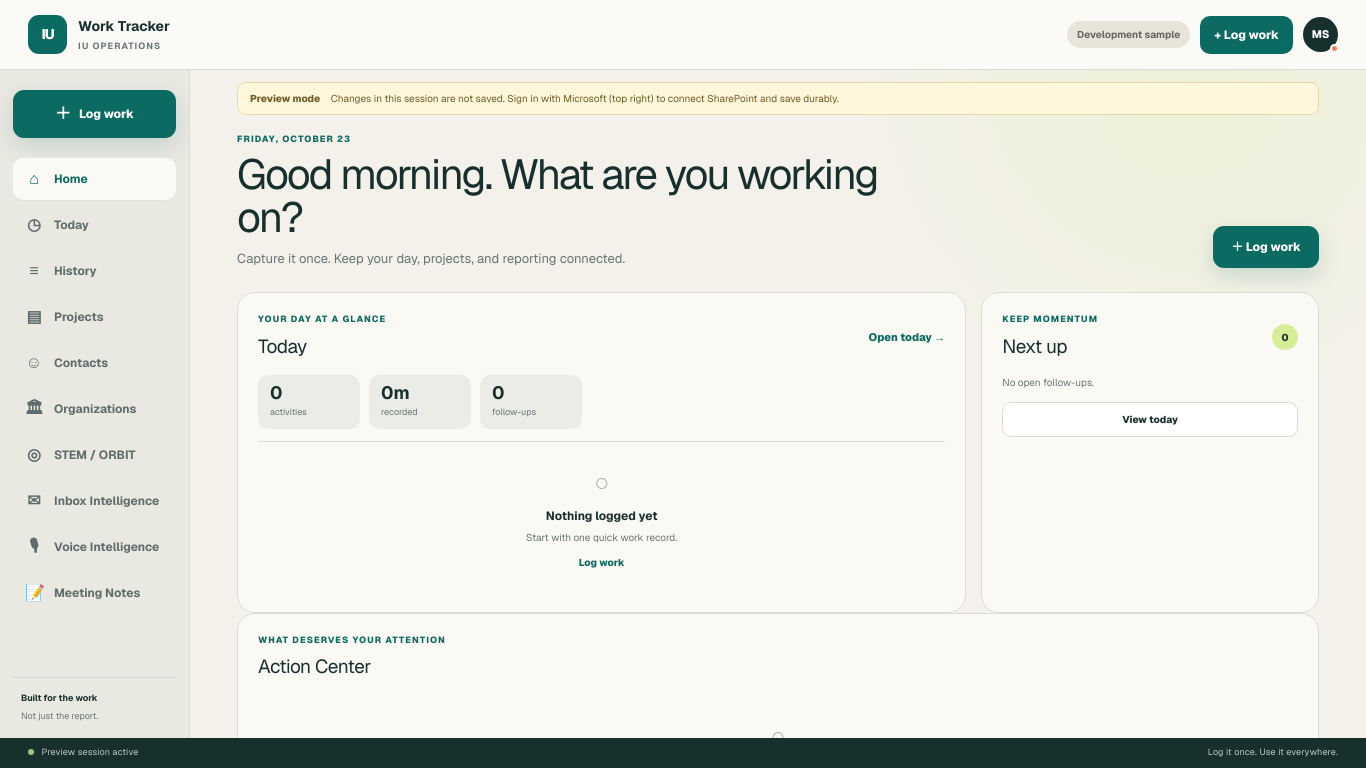
Test: Log Work — the new directory in the pickers › a durable Organization that shares a seed's name appears ONCE in the picker (it replaces the seed)
Click the button "+ Log work" at (1247, 34), box [1200,16,1293,54]
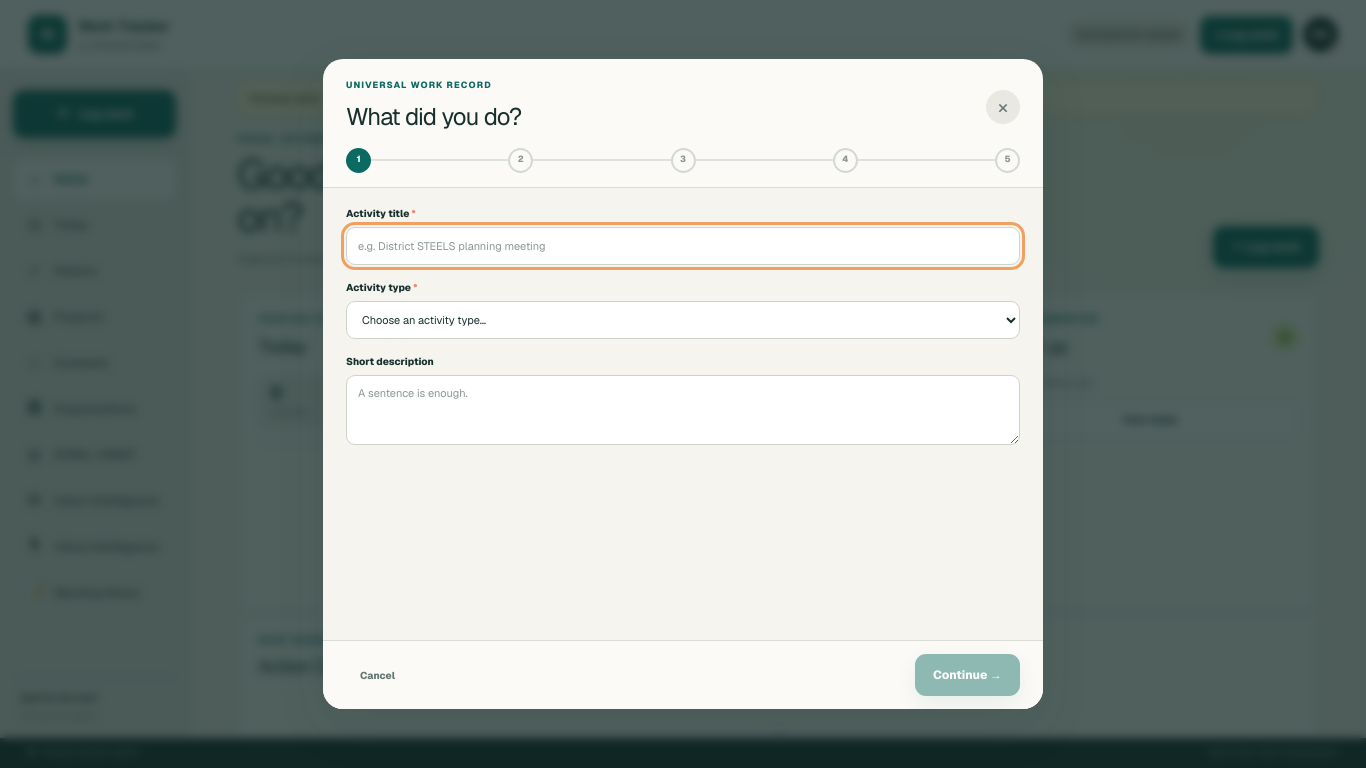
Type "A new entry" into the field with placeholder "e.g. District STEELS planning meeting" at (683, 246), box [346,226,1020,265]
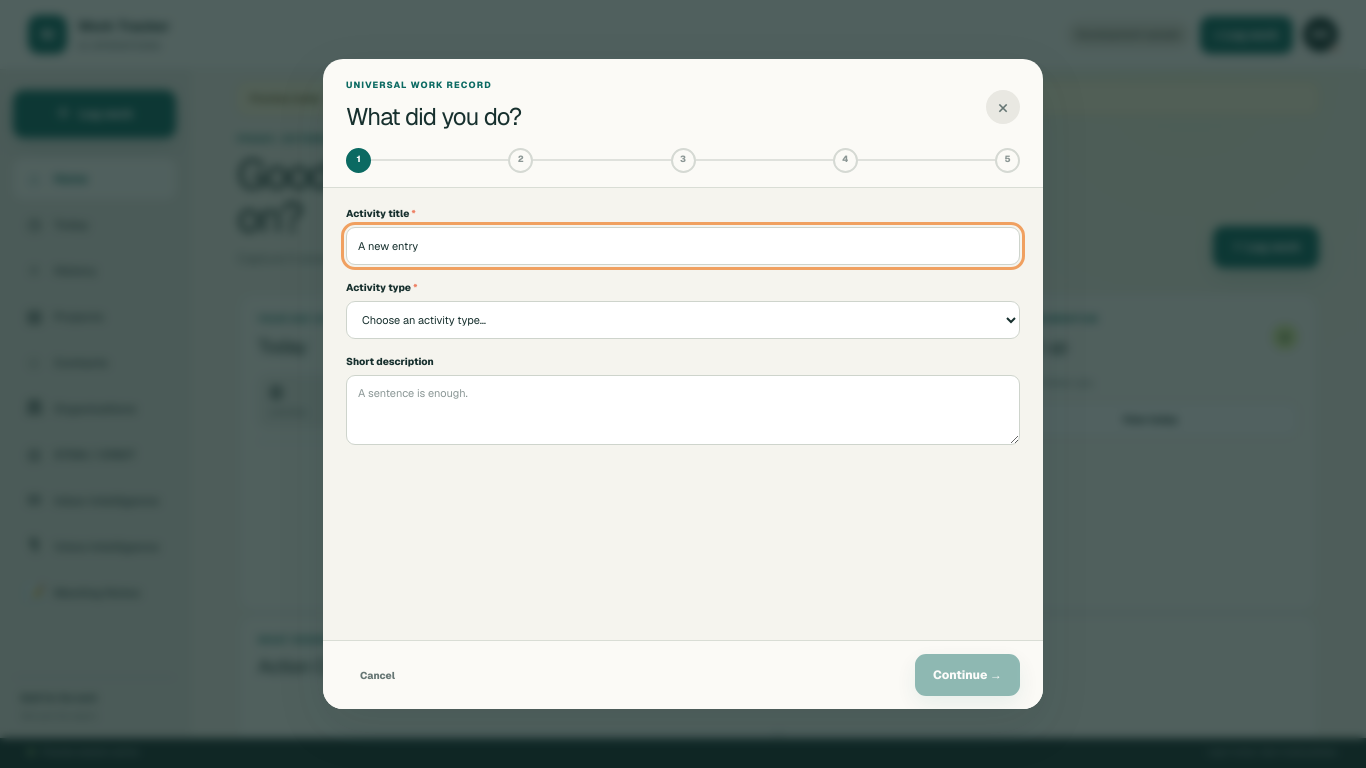
Select "District meeting" in the dropdown labelled "Activity type *" at (683, 320), box [346,301,1020,339]
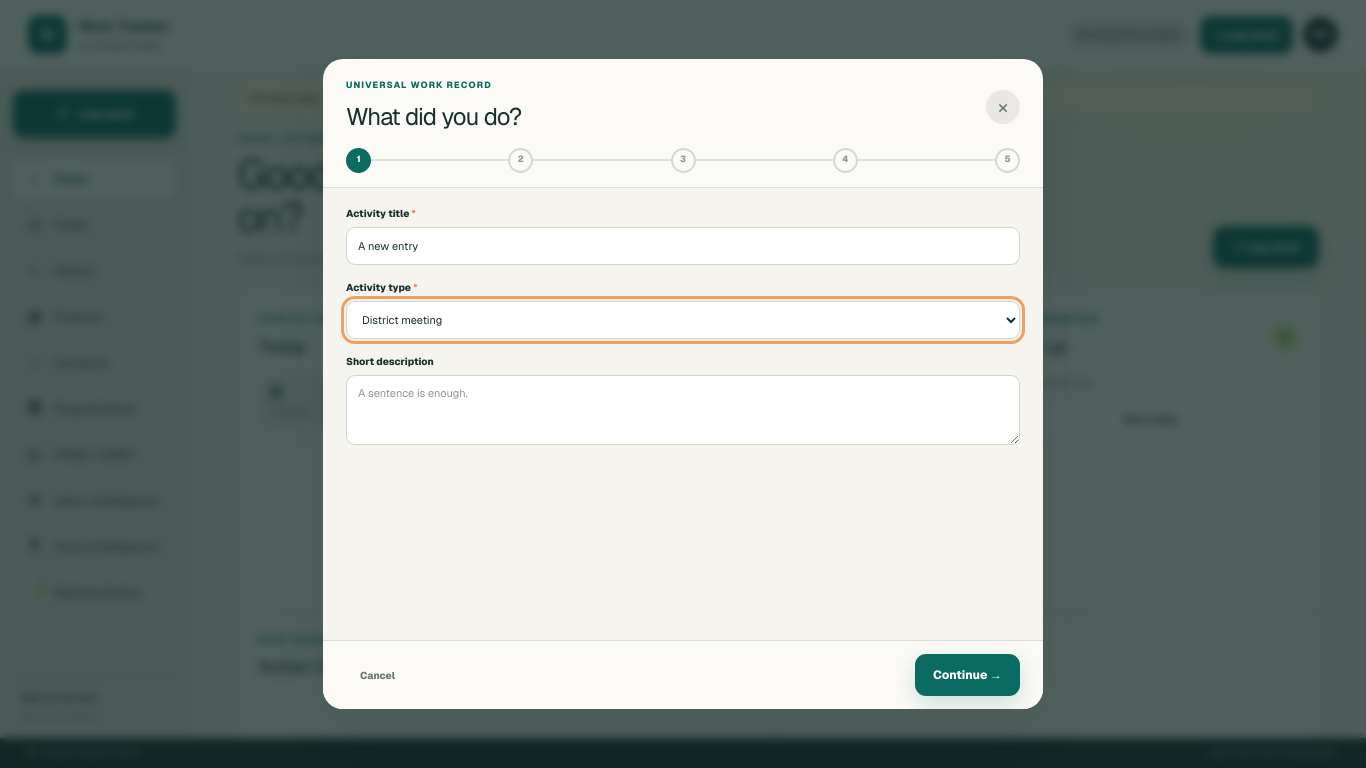
Click the button "Continue →" at (967, 675), box [915,654,1020,696]
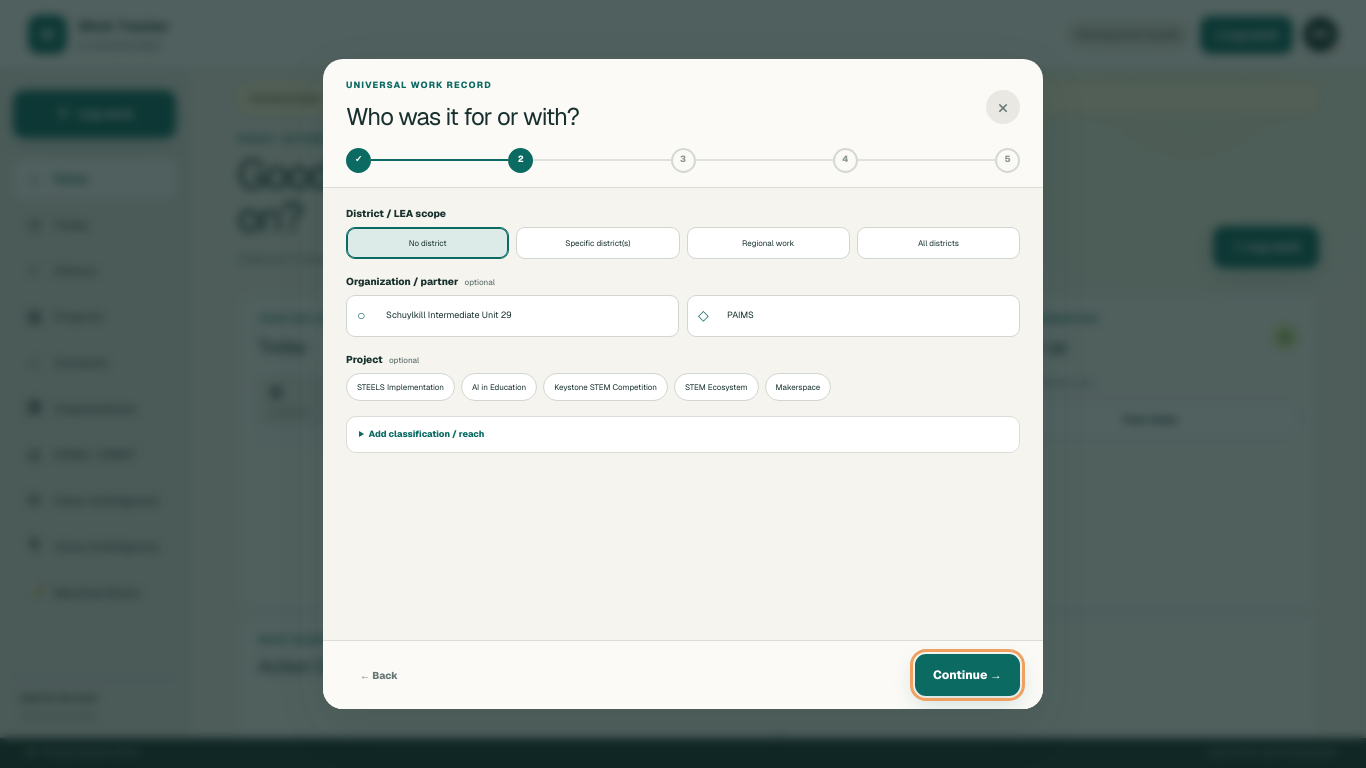
Expected: the number of buttons "◇ PAIMS" is 1, [687,294,1020,336]
